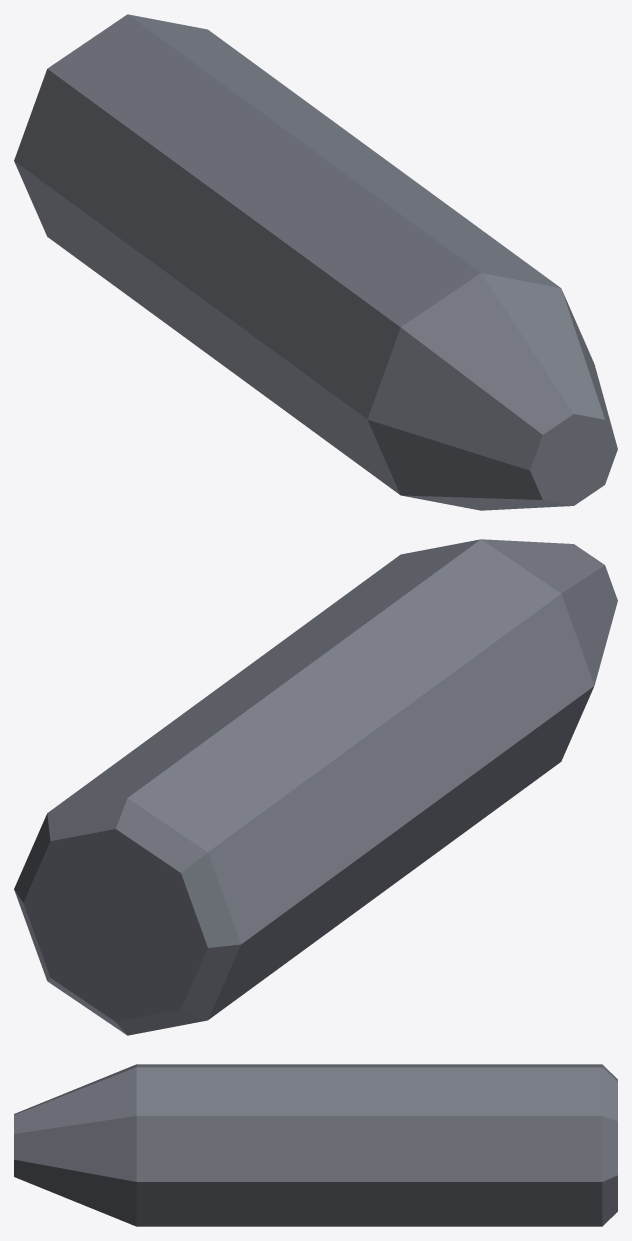
File: Bullet (1).fbx
3 renders of one model, top to bottom at view 1: azimuth 30°, elevation 25°; view 2: azimuth 150°, elevation 25°; view 3: azimuth 270°, elevation 25°, orthographic. The views are drawn at different scales.
Visible parts, largest first — view 1: Cylinder; view 2: Cylinder; view 3: Cylinder.
Part boxes in pixels (x1,y1,x2,y2): Cylinder: [14, 14, 617, 510]; Cylinder: [14, 539, 617, 1035]; Cylinder: [14, 1064, 617, 1226].
Bounding box in the file's own units: 11.29 × 11.29 × 39.47.
